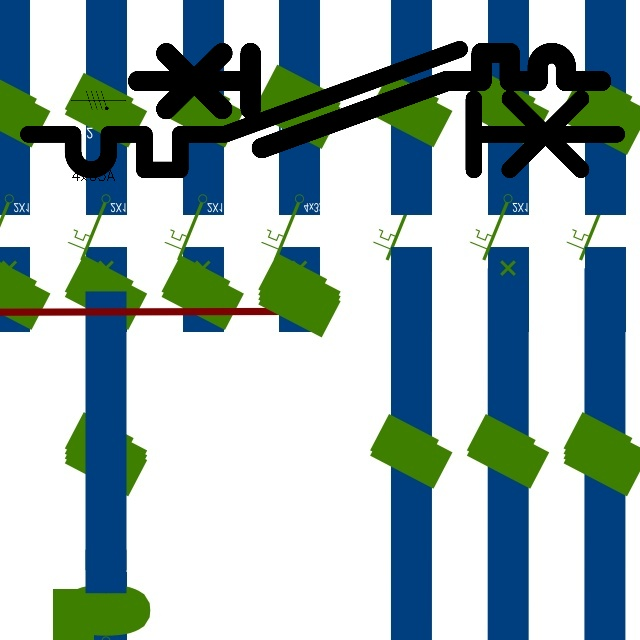interruptor_termomagnetico: (13, 34, 631, 185), (126, 41, 613, 160)
